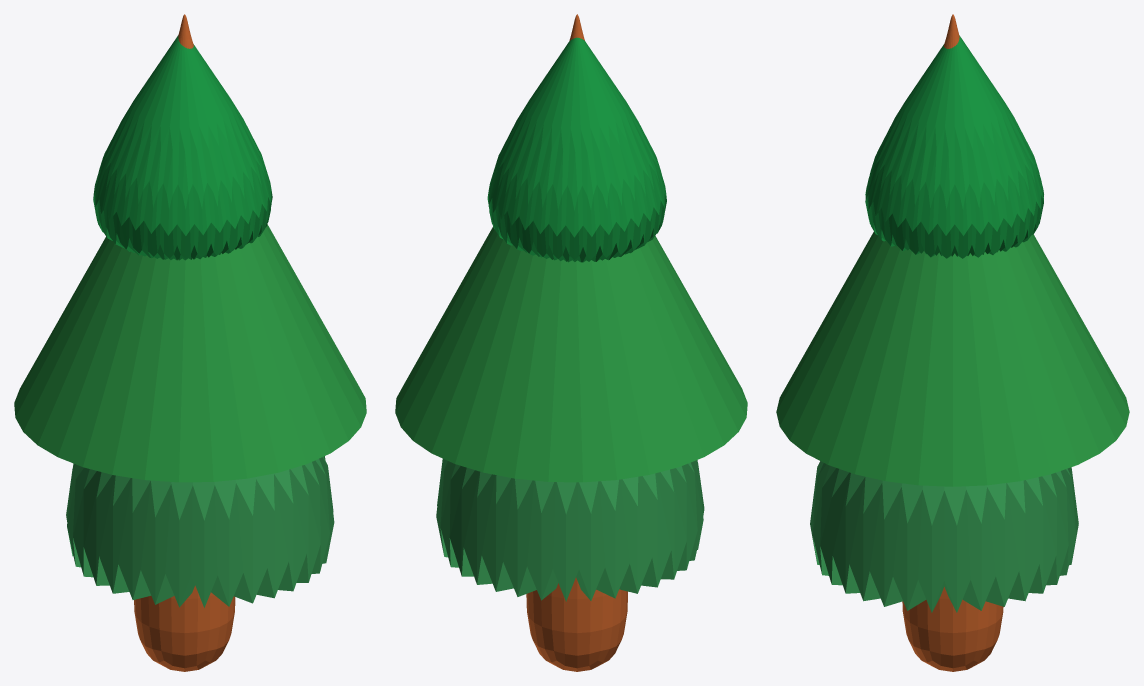
File: elachka.fbx
3 renders of one model, left to right at view 1: azimuth 30°, elevation 25°; view 2: azimuth 150°, elevation 25°; view 3: azimuth 270°, elevation 25°, orthographic.
Parts seen in each view (by area): view 1: Cone.001, Cone.002, Cone, Cylinder; view 2: Cone.001, Cone.002, Cone, Cylinder; view 3: Cone.001, Cone.002, Cone, Cylinder.
Boxes of the visible parts, x1=… form: Cone.001: x1=14, y1=224, x2=366, y2=482; Cone.002: x1=66, y1=456, x2=334, y2=607; Cone: x1=93, y1=35, x2=272, y2=260; Cylinder: x1=134, y1=14, x2=235, y2=671; Cone.001: x1=395, y1=226, x2=747, y2=482; Cone.002: x1=436, y1=459, x2=704, y2=601; Cone: x1=487, y1=37, x2=666, y2=262; Cylinder: x1=526, y1=14, x2=627, y2=671; Cone.001: x1=776, y1=232, x2=1129, y2=486; Cone.002: x1=810, y1=461, x2=1078, y2=612; Cone: x1=865, y1=35, x2=1043, y2=258; Cylinder: x1=902, y1=14, x2=1003, y2=671.
Size of the model in its own units: 158 by 323 by 158.
